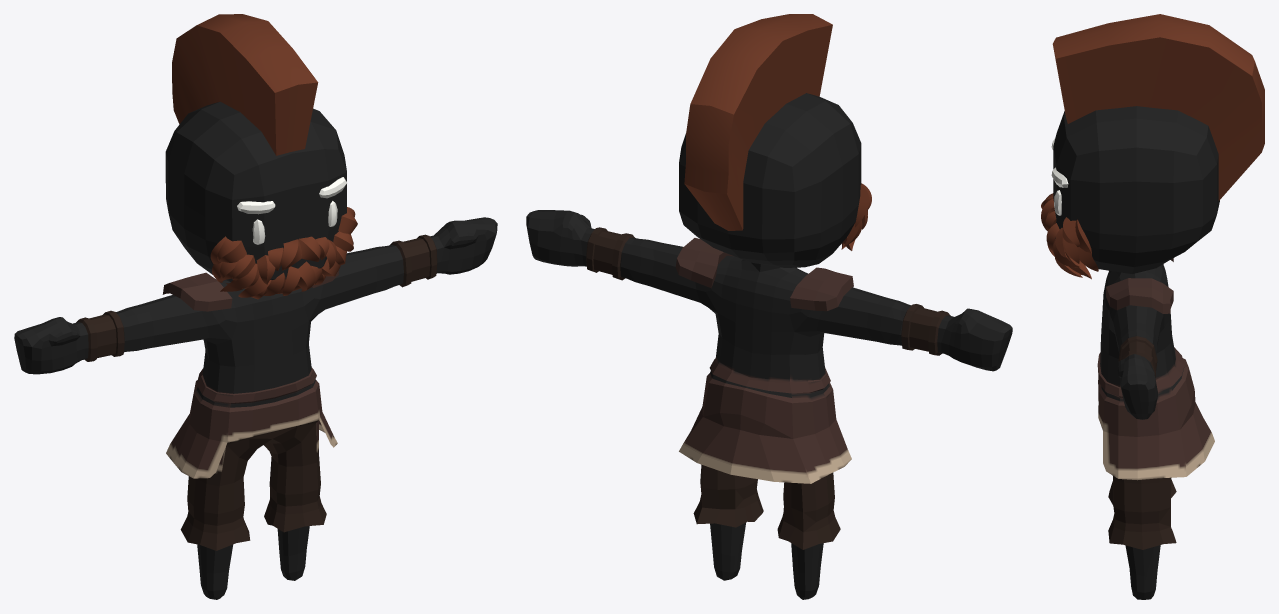
File: Viking_Male.fbx
The picture shows the model from 3 angles, left to right: view 1: azimuth 30°, elevation 25°; view 2: azimuth 150°, elevation 25°; view 3: azimuth 270°, elevation 25°; orthographic projection.
Parts seen in each view (by area): view 1: Body; view 2: Body; view 3: Body.
Part boxes in pixels (<box>): Body: <box>14,14,497,599</box>; Body: <box>526,14,1012,599</box>; Body: <box>1041,14,1264,599</box>.
Size of the model in its own units: 324 by 364 by 132.
1 material, 1 textured.
